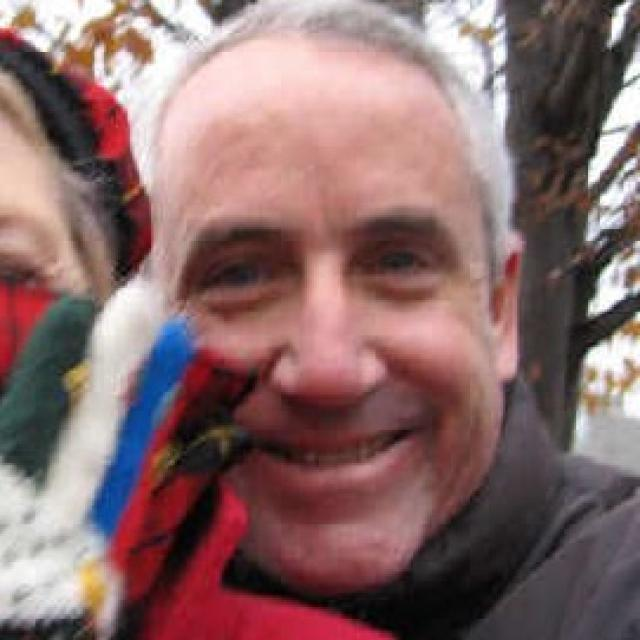Normal: (155, 27, 501, 584)
